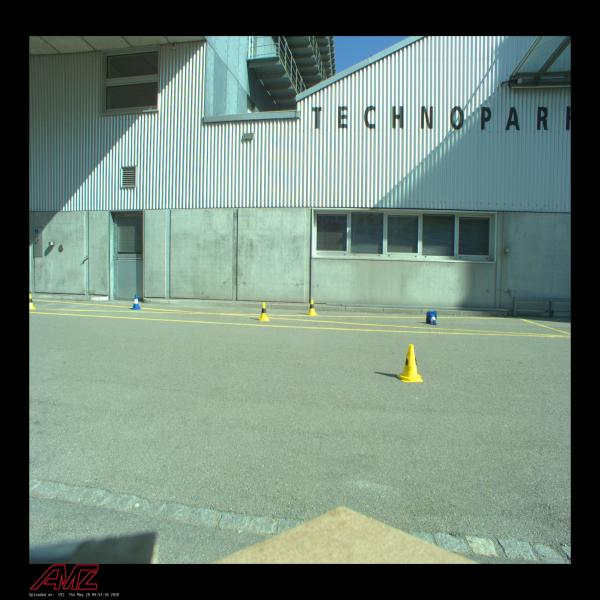blue_cone: (426, 312, 437, 326), (131, 294, 141, 309)
yellow_cone: (397, 344, 423, 382), (258, 303, 269, 321), (306, 300, 318, 315), (29, 294, 36, 310)
